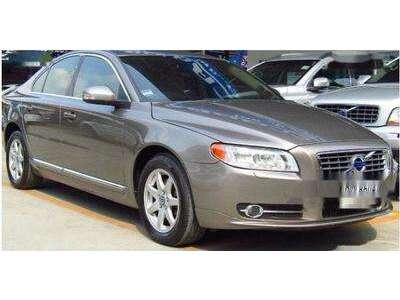sedan: (3, 52, 398, 245)
